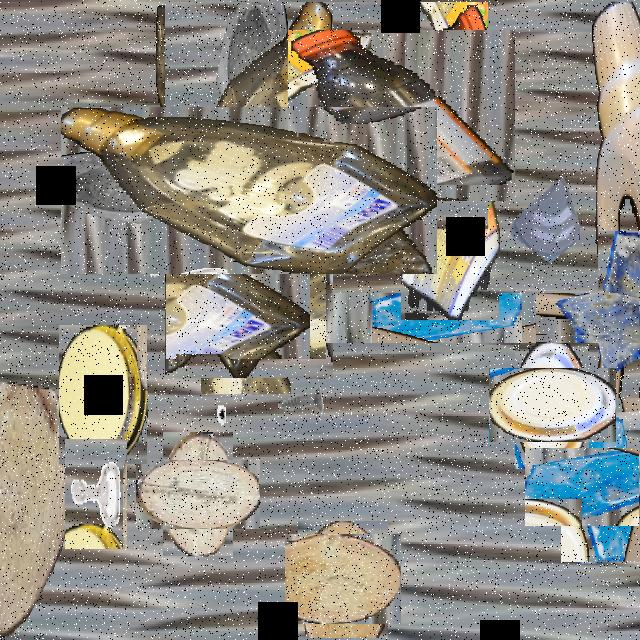glass: (184, 252, 308, 377), (543, 429, 640, 544), (511, 166, 579, 286), (566, 262, 640, 366)
metal: (65, 439, 127, 549), (273, 363, 325, 455), (176, 354, 226, 442), (118, 200, 184, 266)
plastic: (113, 54, 385, 326), (444, 147, 640, 488), (302, 16, 502, 215), (401, 146, 499, 320), (59, 325, 147, 464), (502, 355, 602, 456), (156, 2, 230, 126)
wood: (0, 382, 69, 638), (291, 528, 395, 631), (150, 445, 246, 543)
